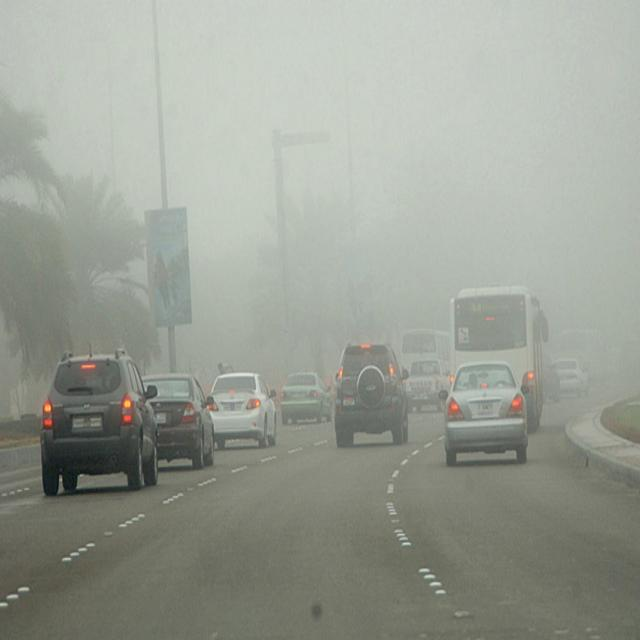car: (36, 351, 160, 498), (442, 362, 528, 466), (332, 341, 412, 446), (144, 372, 216, 470), (207, 371, 279, 447), (280, 370, 330, 424), (406, 358, 450, 412), (558, 356, 588, 399), (546, 360, 560, 400)
truck: (451, 288, 548, 431), (402, 330, 449, 378)
